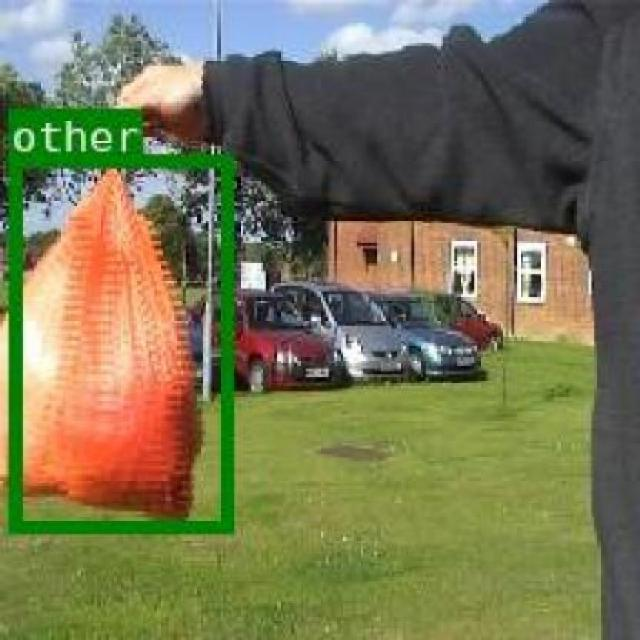other: (8, 152, 229, 530)
